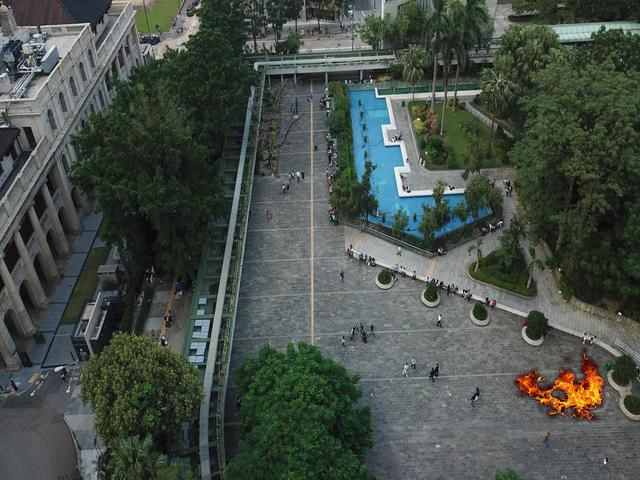fire: (511, 345, 606, 426)
